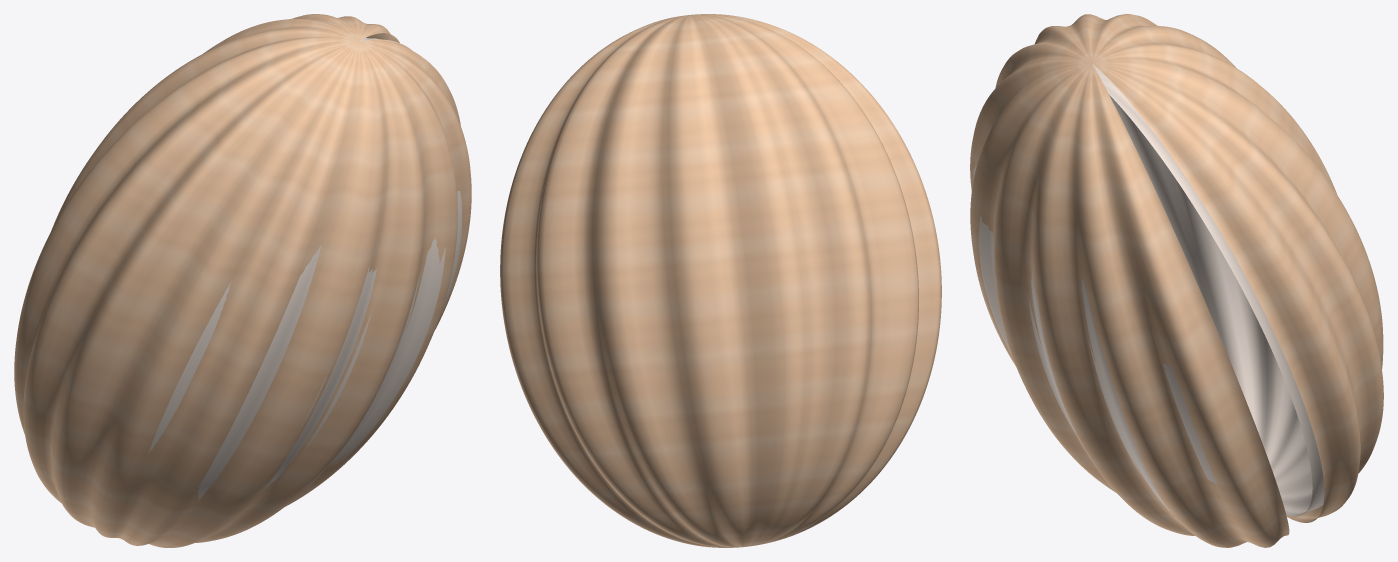
Rendered from harp-shell.glb.
3 renders of one model, left to right at view 1: azimuth 30°, elevation 25°; view 2: azimuth 150°, elevation 25°; view 3: azimuth 270°, elevation 25°, orthographic. The views are drawn at different scales.
Parts seen in each view (by area): view 1: harp-shell; view 2: harp-shell; view 3: harp-shell.
Boxes of the visible parts, x1,y1,x2,y2 form: harp-shell: (14,14,471,547); harp-shell: (500,14,941,547); harp-shell: (970,14,1383,547).
Bounding box in the file's own units: 1.65 × 1.89 × 1.35.
